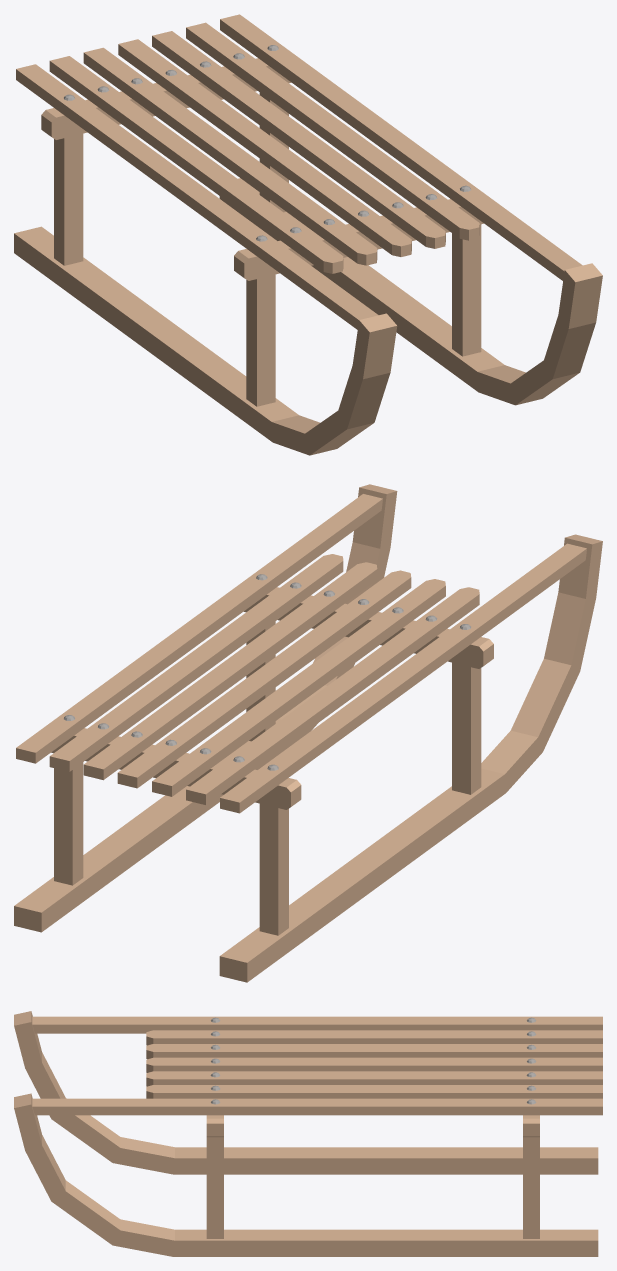
The model's file is 1_Sd_OBmf5P.glb.
The picture shows the model from 3 angles, top to bottom: view 1: azimuth 30°, elevation 25°; view 2: azimuth 150°, elevation 25°; view 3: azimuth 270°, elevation 25°; orthographic projection. The views are drawn at different scales.
Parts seen in each view (by area): view 1: Sled; view 2: Sled; view 3: Sled.
Boxes of the visible parts, bbox=[...] form: Sled: bbox=[14, 14, 602, 455]; Sled: bbox=[14, 484, 602, 982]; Sled: bbox=[14, 1011, 602, 1256].
Bounding box in the file's own units: 1.41 × 1 × 3.5.
Materials: 1 (1 with a texture image).
